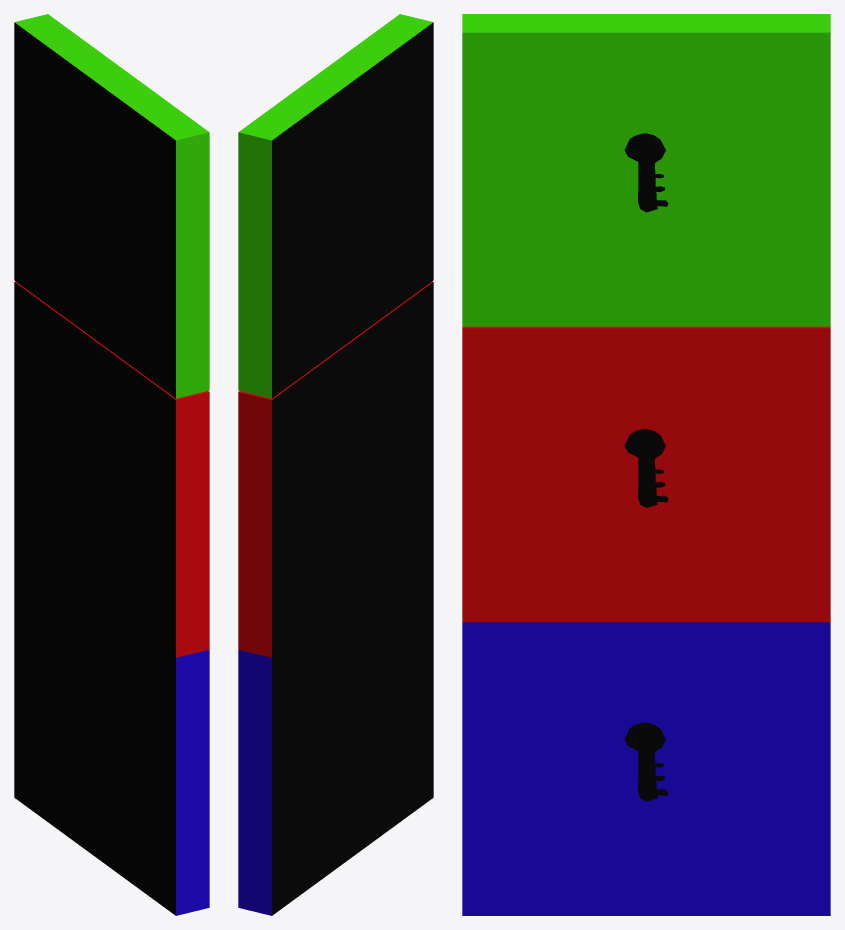
The model's file is KeyHoles.fbx.
3 views of the same model, side by side, from view 1: azimuth 30°, elevation 25°; view 2: azimuth 150°, elevation 25°; view 3: azimuth 270°, elevation 25° (orthographic). The views are drawn at different scales.
Parts seen in each view (by area): view 1: Cube.002, Cube.001, Cube; view 2: Cube.002, Cube.001, Cube; view 3: Cube.002, Cube.001, Cube.
Part boxes in pixels (bbox=[...]): Cube.002: bbox=[14, 14, 209, 398]; Cube.001: bbox=[14, 281, 209, 657]; Cube: bbox=[14, 540, 209, 915]; Cube.002: bbox=[238, 14, 433, 398]; Cube.001: bbox=[238, 281, 433, 657]; Cube: bbox=[238, 540, 433, 915]; Cube.002: bbox=[462, 14, 830, 326]; Cube.001: bbox=[462, 326, 830, 622]; Cube: bbox=[462, 622, 830, 915].
Size of the model in its own units: 13.19 by 290 by 110.
